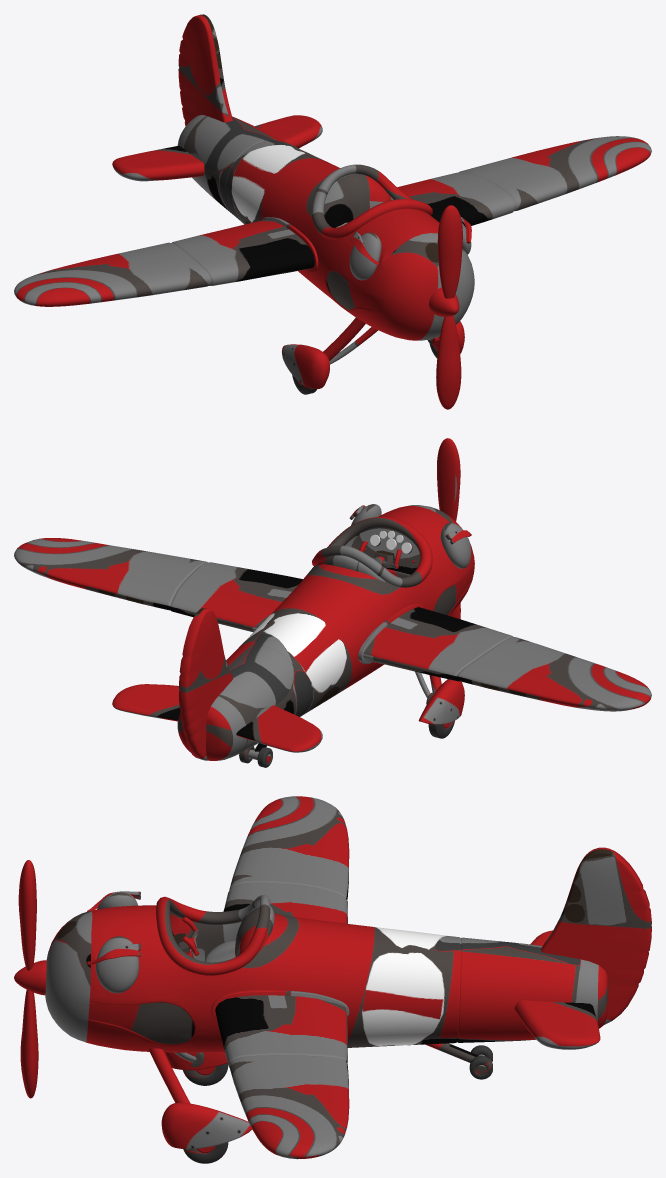
File: Aeroplanes.fbx
3 renders of one model, top to bottom at view 1: azimuth 30°, elevation 25°; view 2: azimuth 150°, elevation 25°; view 3: azimuth 270°, elevation 25°, orthographic. The views are drawn at different scales.
Parts seen in each view (by area): view 1: Object_15; view 2: Object_15; view 3: Object_15.
Part boxes in pixels (<box>): Object_15: <box>14,14,651,409</box>; Object_15: <box>14,438,651,767</box>; Object_15: <box>14,796,651,1163</box>.
Bounding box in the file's own units: 1932 × 689 × 1455.
